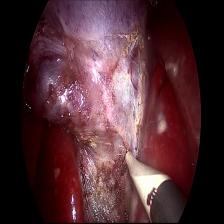Hook: (113, 133, 176, 224)
